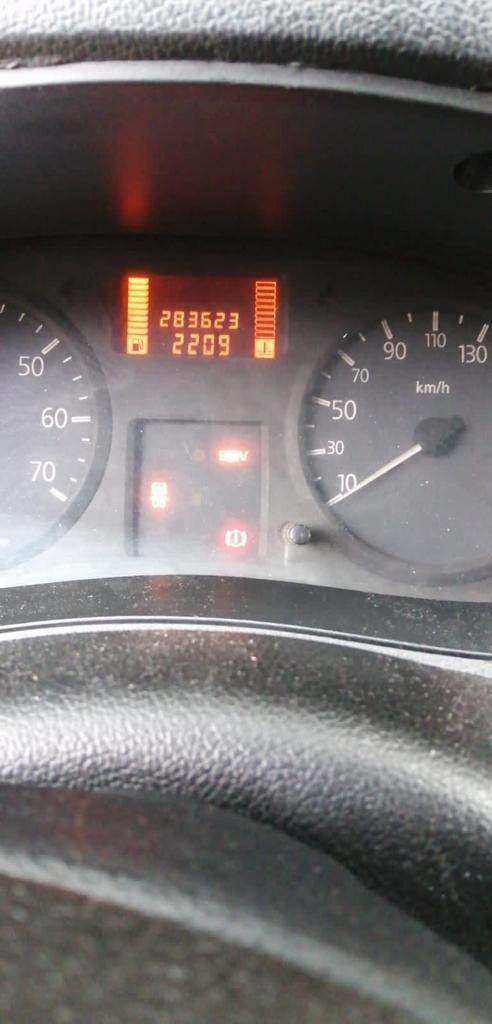0: (202, 331, 213, 355)
2: (186, 331, 199, 354), (171, 331, 183, 354), (159, 308, 170, 327), (213, 310, 224, 328)
3: (227, 310, 238, 329), (186, 309, 197, 327)
6: (200, 309, 210, 327)
8: (172, 308, 184, 327)
9: (217, 332, 230, 355)
odometer: (113, 267, 288, 361)
